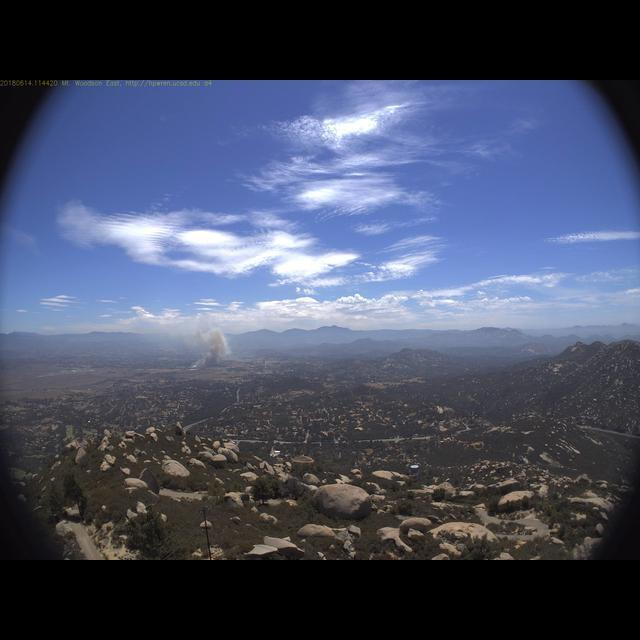Smoke: (145, 306, 235, 375)
